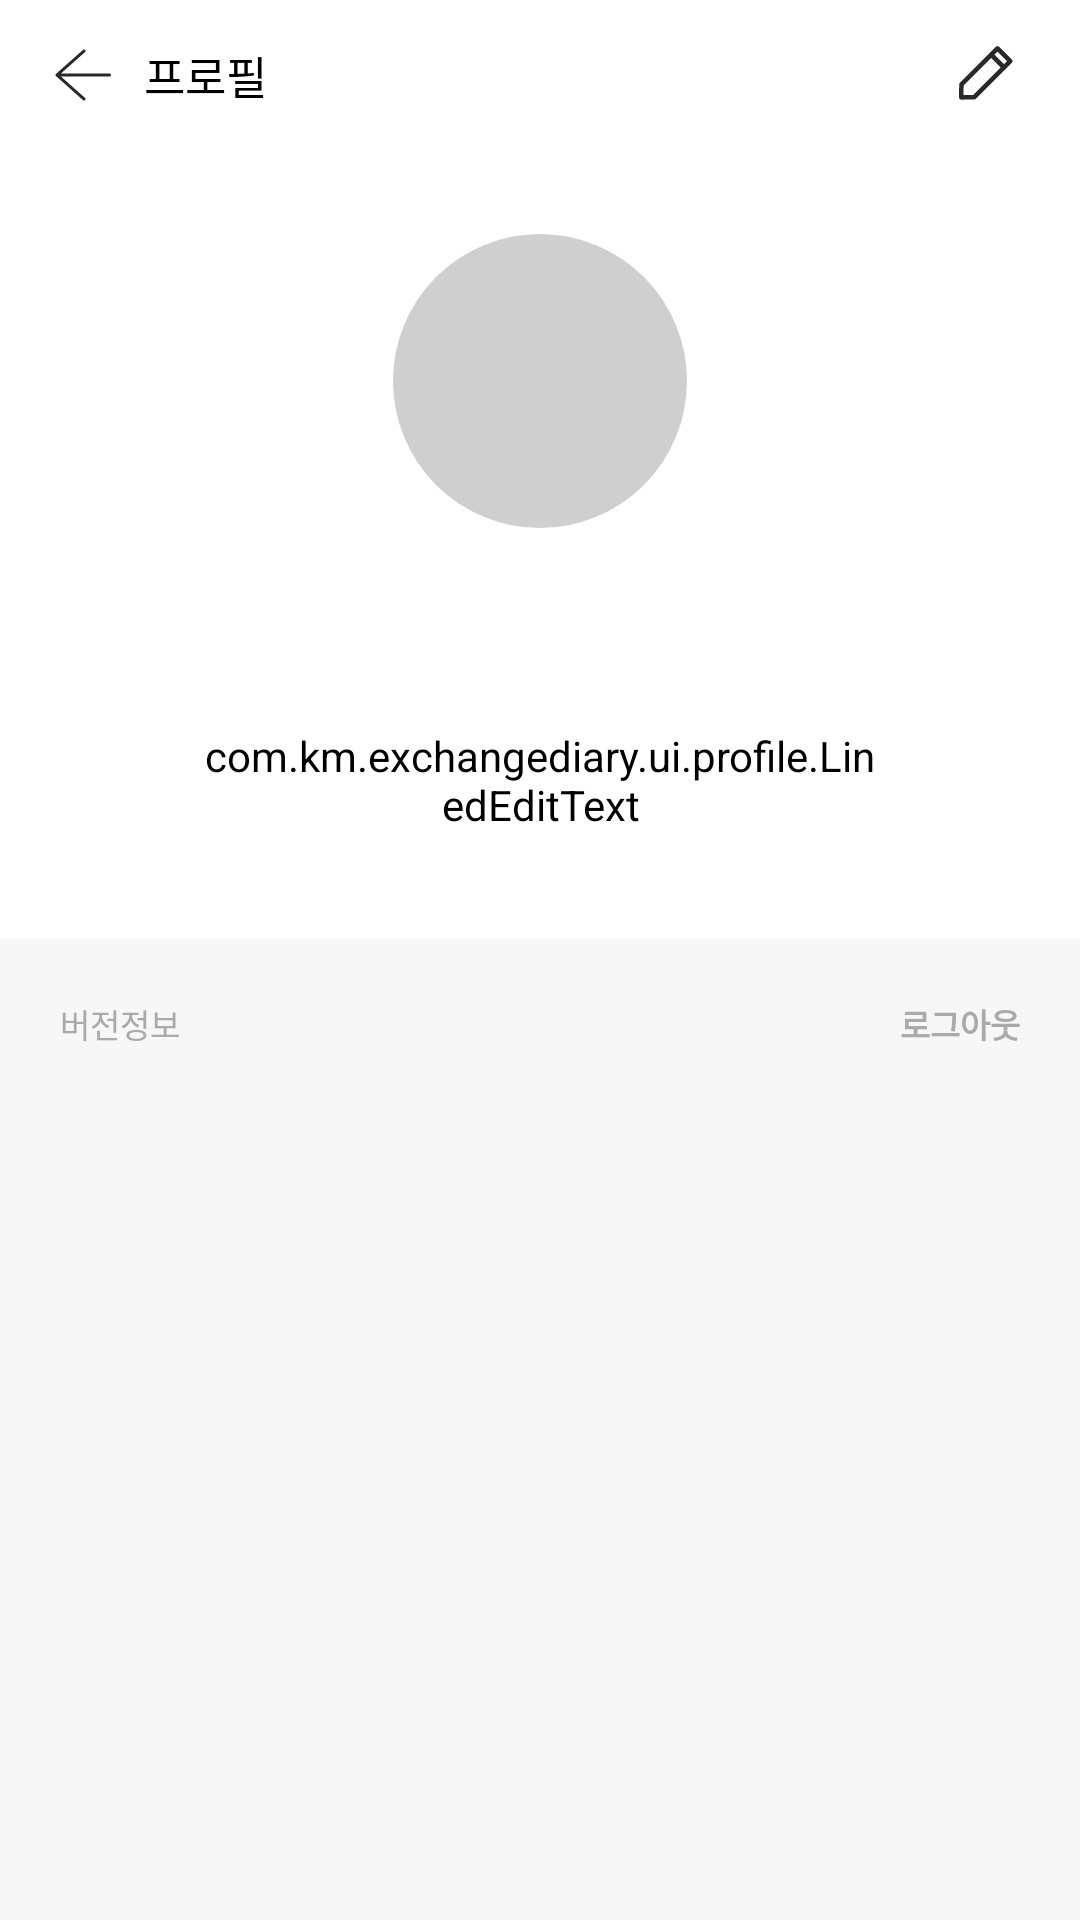

Icon bounding boxes for this 1080×1920 phone screenshot, format (x1, y1, x2, y2):
back: (55, 49, 111, 101)
content edit line: (959, 46, 1013, 100)
